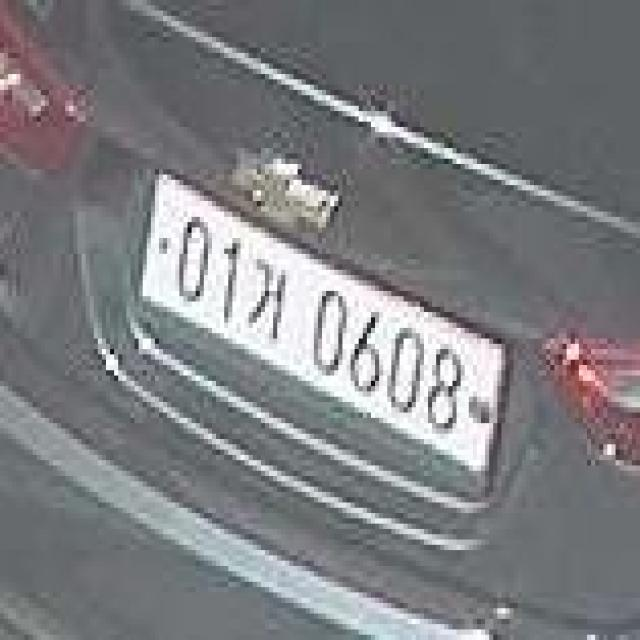illegal_plate: (137, 172, 508, 495)
